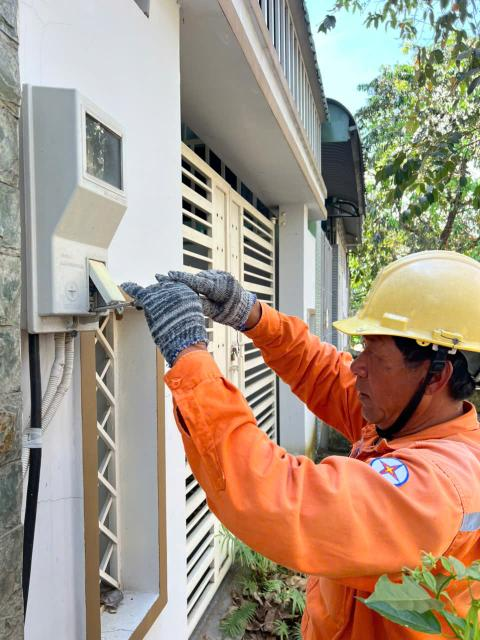gloves: (118, 269, 220, 364), (179, 259, 254, 327)
helmet: (291, 244, 480, 351)
